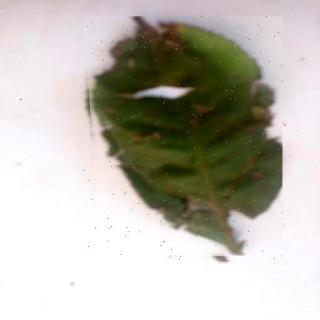Brown Blight: (86, 18, 285, 262)
